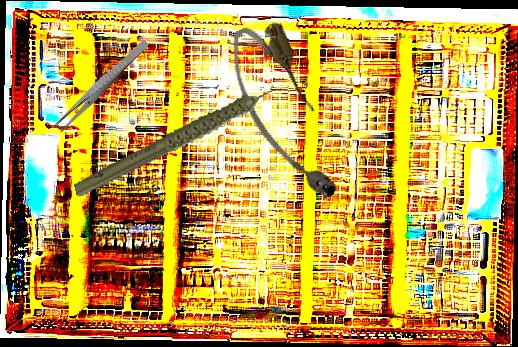Cannula: (219, 14, 349, 213)
Dressing Forceps: (52, 35, 151, 135)
Handpiece: (62, 82, 302, 200)
